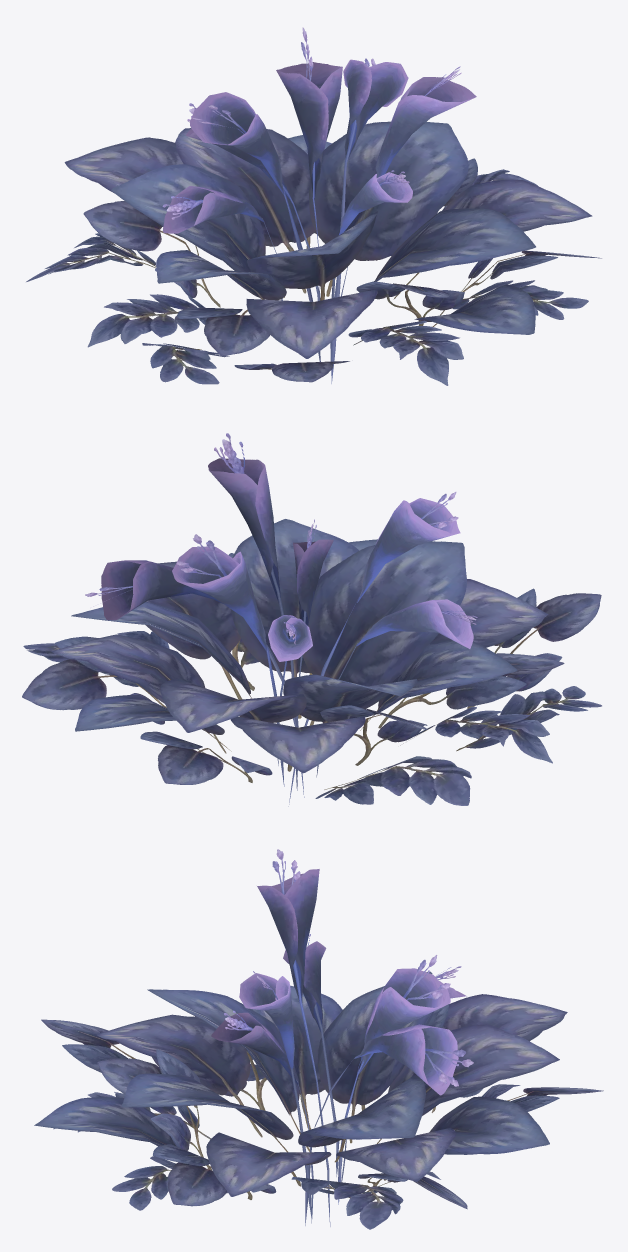
3 views of the same model, one above another, from view 1: azimuth 30°, elevation 25°; view 2: azimuth 150°, elevation 25°; view 3: azimuth 270°, elevation 25° (orthographic). The views are drawn at different scales.
Bounding box in the file's own units: 4.9 × 3.07 × 5.16.
1 material, 1 textured.
